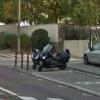Motorcycle: (30, 40, 74, 75)
